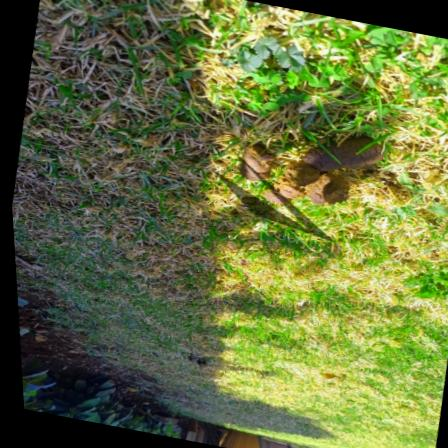dog-poop: (216, 113, 374, 220), (174, 350, 209, 377)
